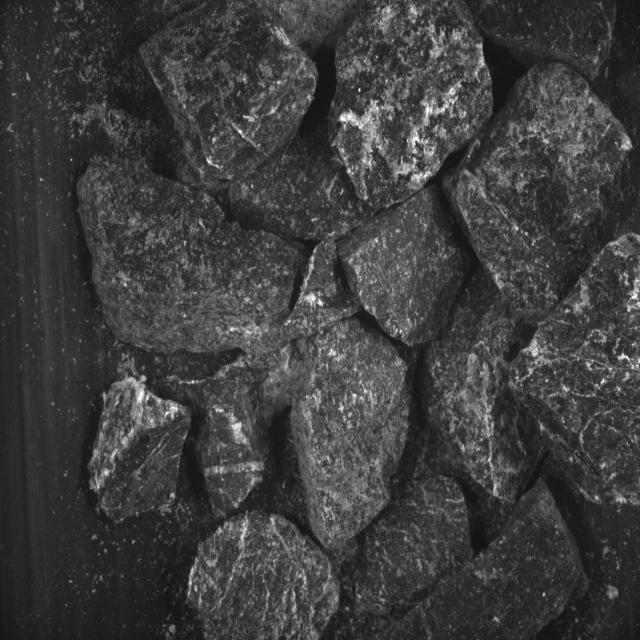Stones: (445, 64, 632, 325), (196, 240, 361, 518), (79, 161, 300, 354), (512, 235, 640, 506), (141, 1, 319, 194), (330, 1, 494, 210), (421, 268, 544, 539), (387, 480, 589, 640), (292, 319, 410, 550), (340, 186, 469, 346), (189, 512, 340, 640), (230, 126, 375, 241), (356, 477, 474, 616), (89, 378, 191, 523)
